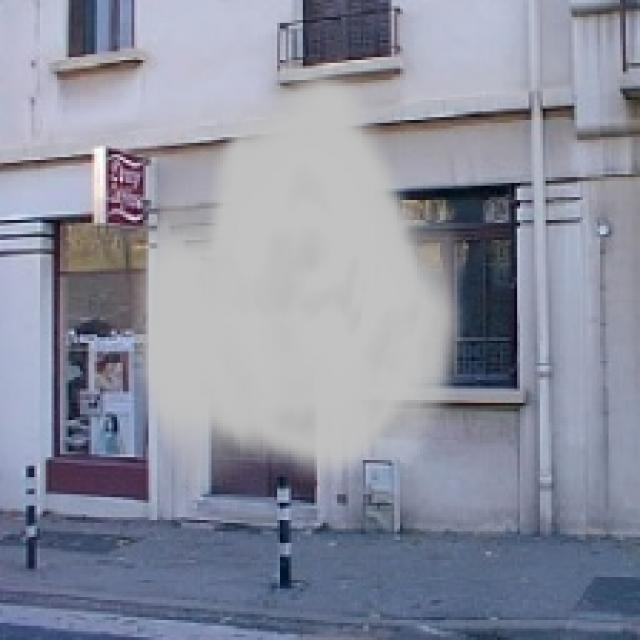Smoke: (132, 60, 474, 486)
